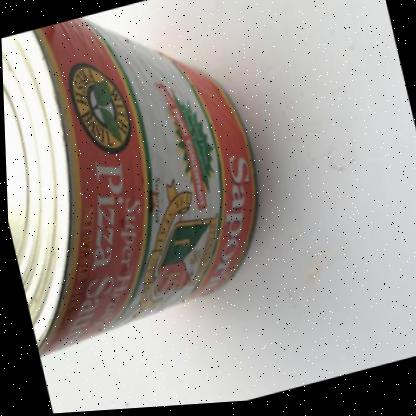Metal: (1, 17, 254, 354)
